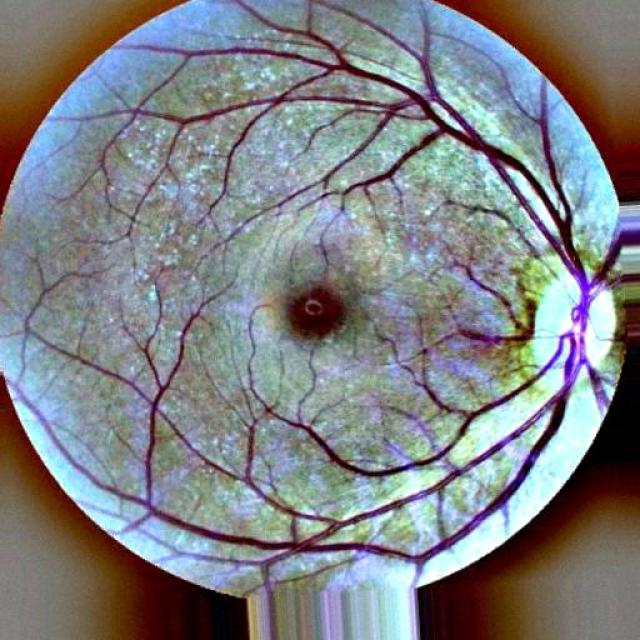Macula: (289, 282, 351, 337)
Nerves: (166, 35, 585, 287), (156, 358, 574, 572), (403, 276, 536, 359)
Optic Disk: (518, 268, 620, 393)
